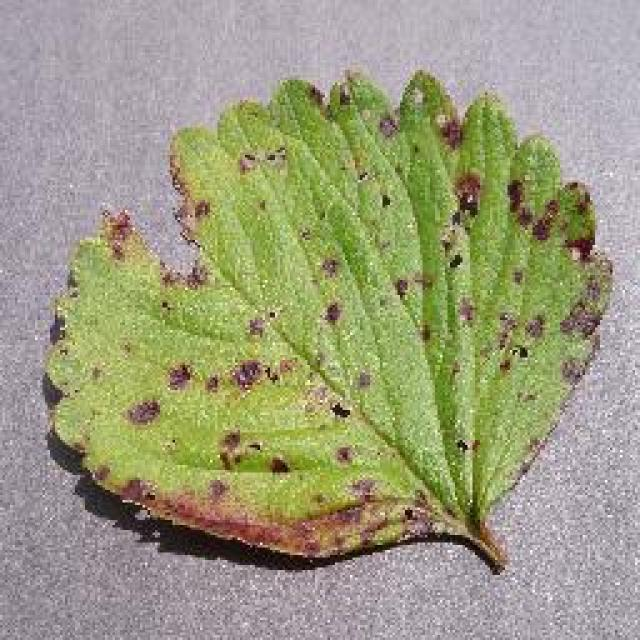Strawberry leaf scorch: (212, 152, 513, 462)
